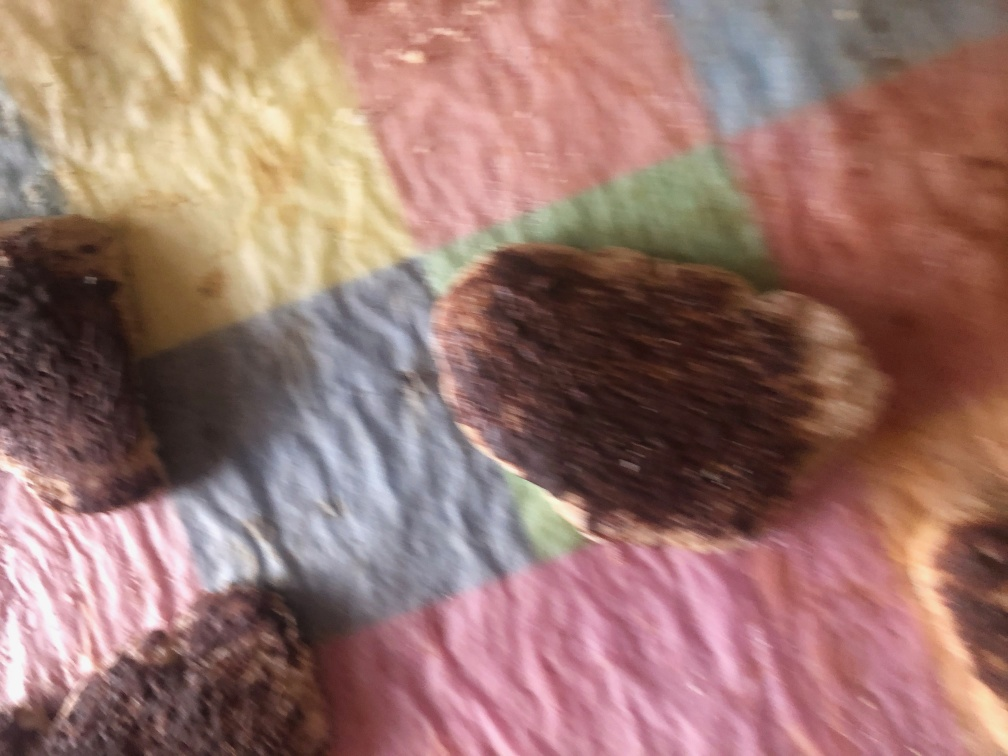weird #1: (425, 234, 893, 561), (1, 576, 335, 752), (2, 214, 167, 517), (903, 487, 1008, 740)
